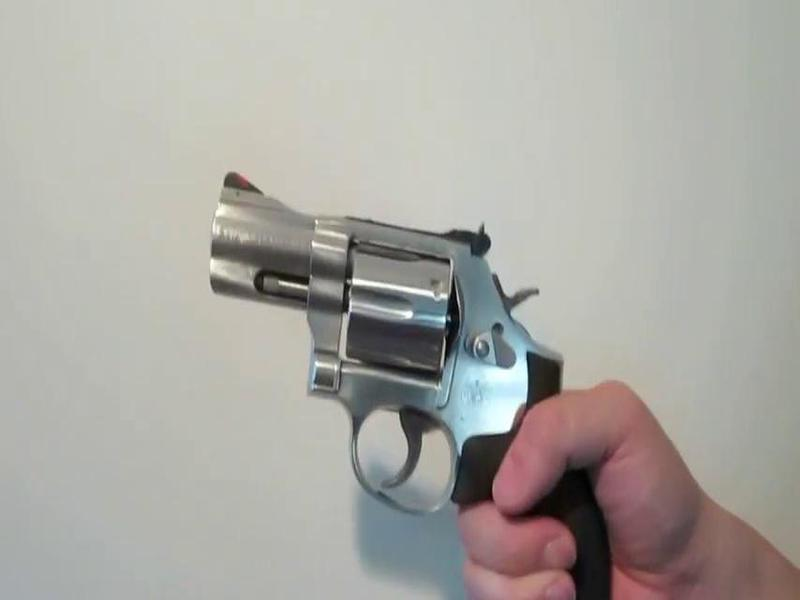Revolver: (191, 144, 603, 554)
